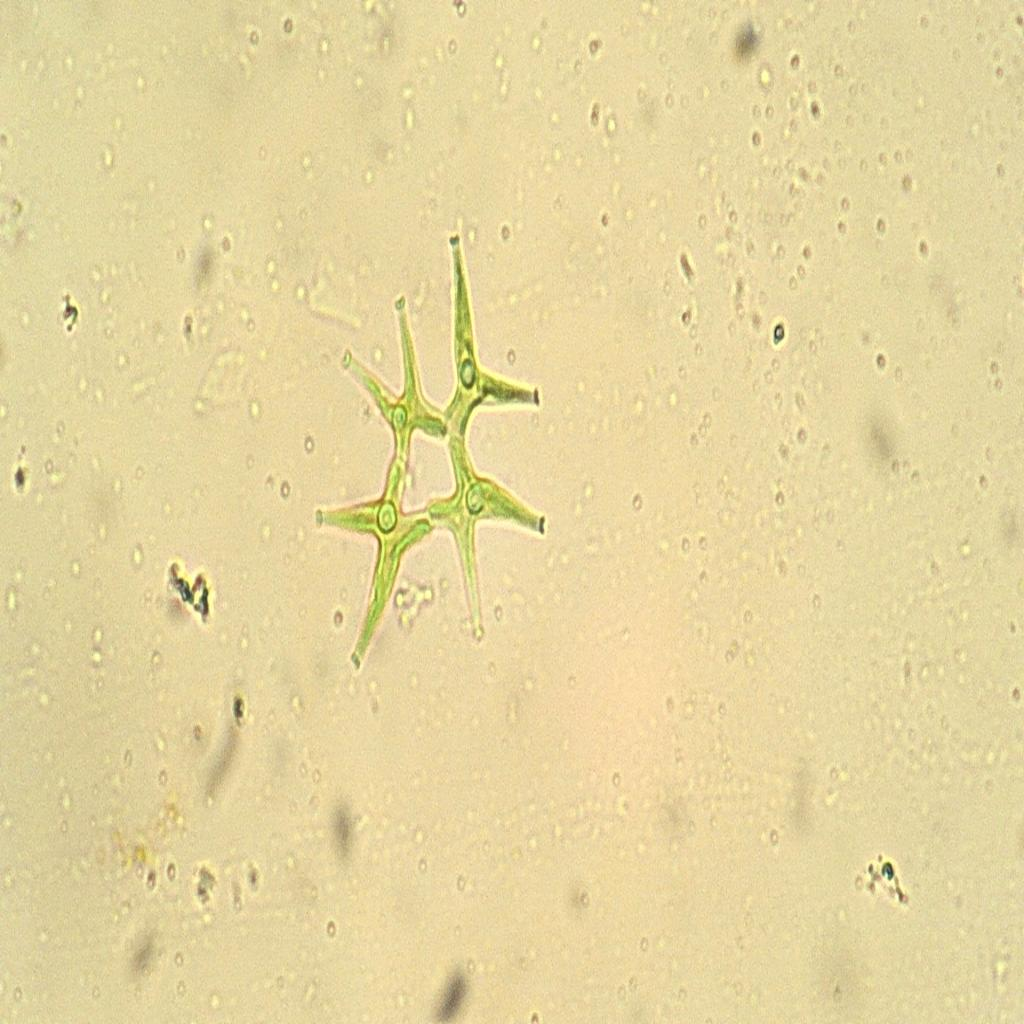Pediastrum_75FI: (312, 218, 557, 697)
